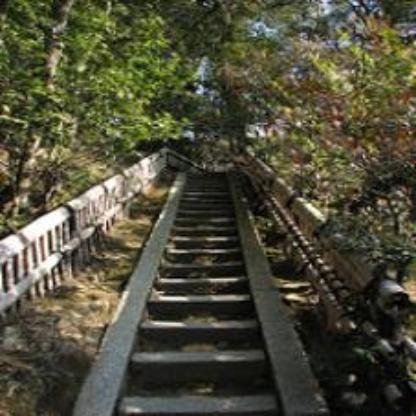stair: (160, 168, 252, 416)
